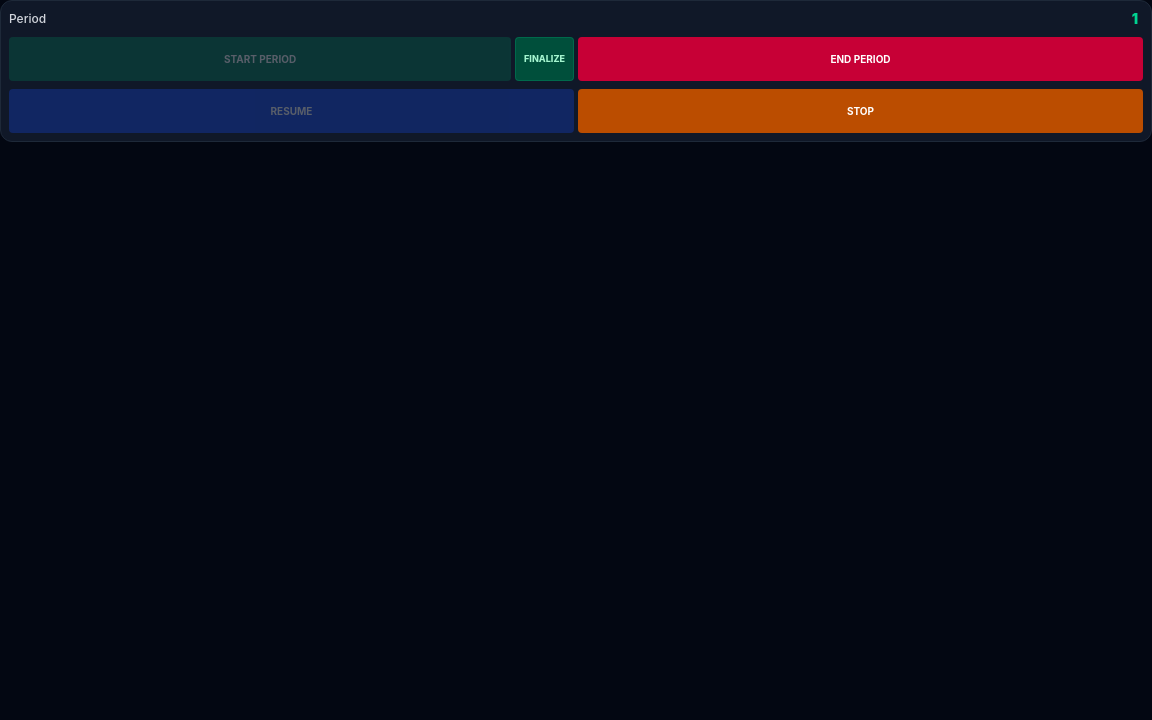
it: MatchLifecyclePanel Component Integration & State Machine › should render FINALIZE button when period is active and open MatchResultModal when clicked
Click the button "FINALIZE" at (545, 59), box x1=515 y1=37 x2=574 y2=81
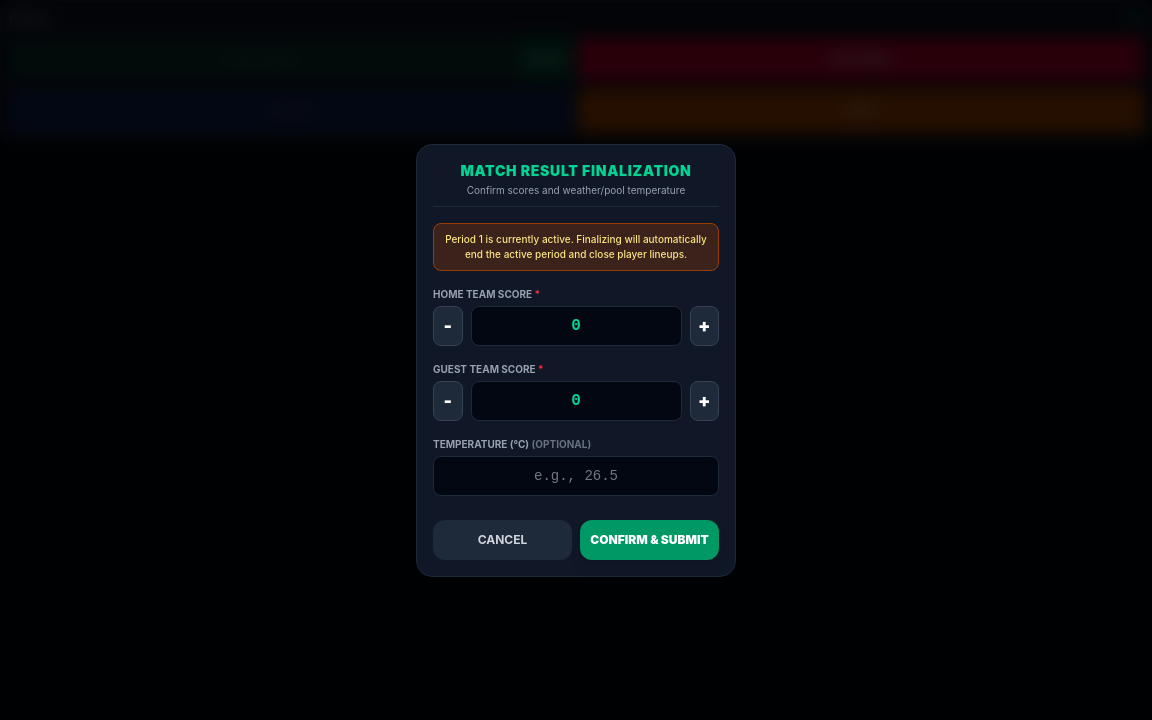
Now the dialog is shown
Now the heading "Match Result Finalization" is shown, box x1=460 y1=162 x2=692 y2=178
Now the text "active period" is shown, box x1=465 y1=232 x2=707 y2=260
